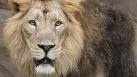lion: (5, 4, 131, 76)
